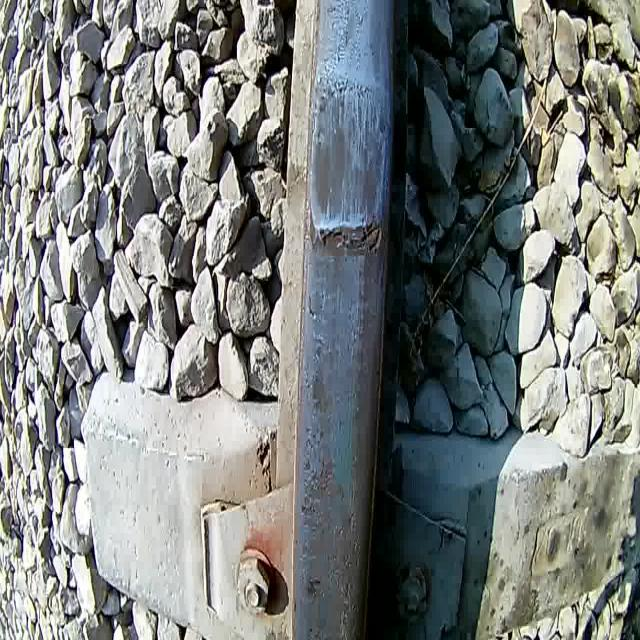Spallings: (300, 206, 393, 260)
Squats: (306, 70, 391, 225)
